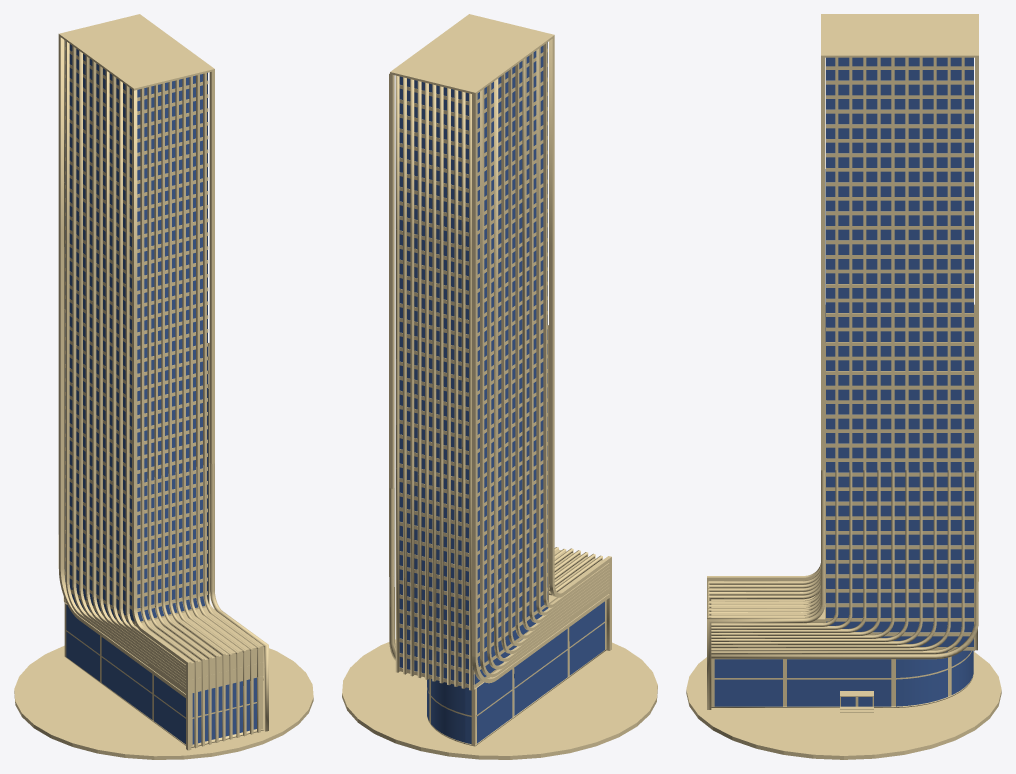
Rendered from Predio.gltf.
3 renders of one model, left to right at view 1: azimuth 30°, elevation 25°; view 2: azimuth 150°, elevation 25°; view 3: azimuth 270°, elevation 25°, orthographic. The views are drawn at different scales.
Visible parts, largest first — view 1: SM_Predio_MQ; view 2: SM_Predio_MQ; view 3: SM_Predio_MQ.
Boxes of the visible parts, x1,y1,x2,y2 form: SM_Predio_MQ: [14, 14, 313, 759]; SM_Predio_MQ: [342, 14, 657, 759]; SM_Predio_MQ: [686, 14, 1001, 759].
Bounding box in the file's own units: 0.825 × 1.9 × 0.825.
